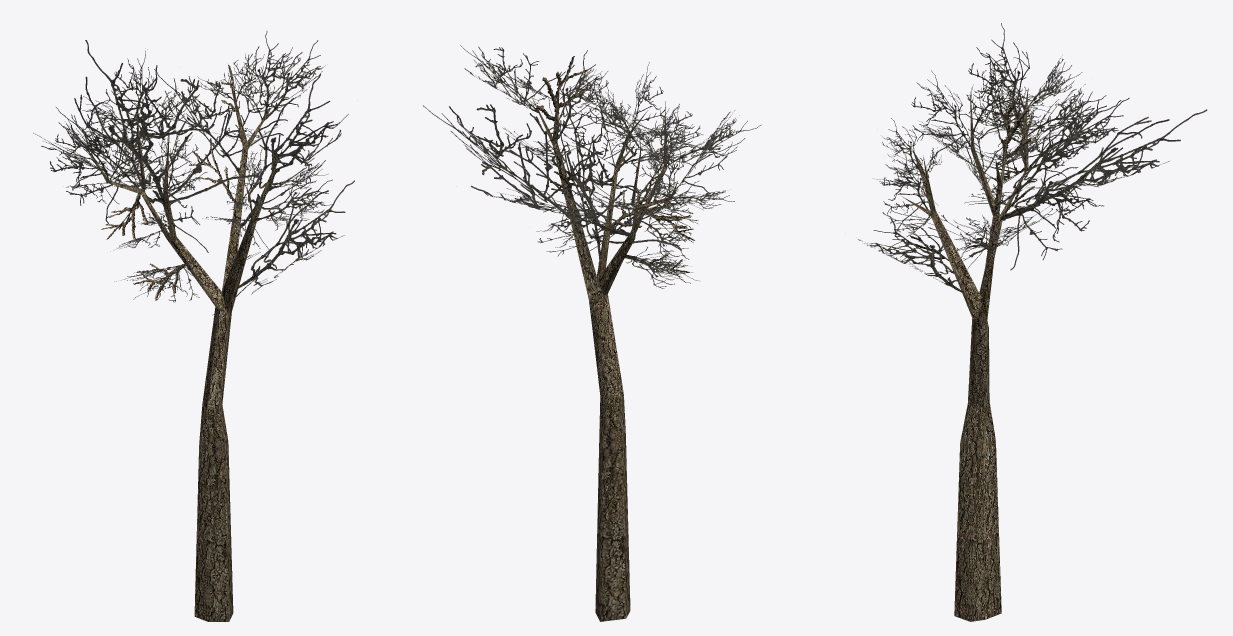
File: muerto_a.glb
The picture shows the model from 3 angles, left to right: view 1: azimuth 30°, elevation 25°; view 2: azimuth 150°, elevation 25°; view 3: azimuth 270°, elevation 25°; orthographic projection. The views are drawn at different scales.
Visible parts, largest first — view 1: Ramas, Tronco; view 2: Ramas, Tronco; view 3: Ramas, Tronco.
Boxes of the visible parts, x1,y1,x2,y2 form: Ramas: (33,31,354,315); Tronco: (96,64,282,621); Ramas: (423,45,761,288); Tronco: (532,56,694,621); Ramas: (858,23,1207,293); Tronco: (901,88,1041,621).
Bounding box in the file's own units: 6.72 × 11.01 × 7.68.
Materials: 2 (2 with a texture image).
